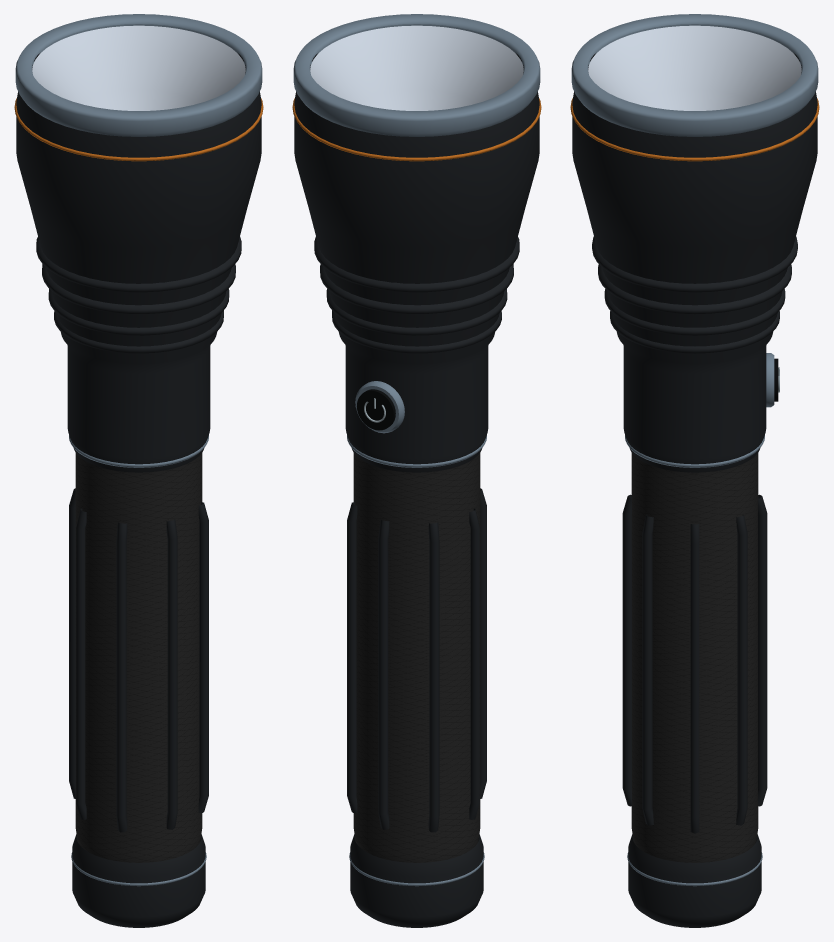
The model's file is Flashlight.fbx.
3 views of the same model, side by side, from view 1: azimuth 30°, elevation 25°; view 2: azimuth 150°, elevation 25°; view 3: azimuth 270°, elevation 25° (orthographic).
Parts seen in each view (by area): view 1: Flashlight; view 2: Flashlight; view 3: Flashlight.
Part boxes in pixels (left/top/right/bottom): Flashlight: left=14, top=14, right=263, bottom=927; Flashlight: left=292, top=14, right=541, bottom=927; Flashlight: left=570, top=14, right=819, bottom=927.
Bounding box in the file's own units: 0.0559 × 0.208 × 0.0559.
Materials: 8 (1 with a texture image).
